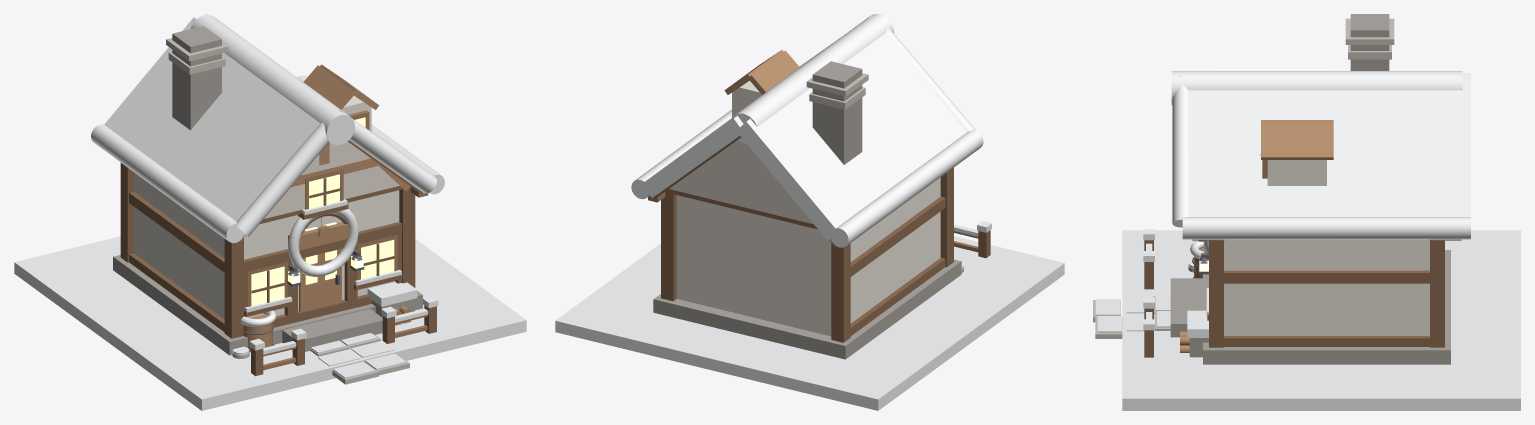
File: winter_house.glb
The picture shows the model from 3 angles, left to right: view 1: azimuth 30°, elevation 25°; view 2: azimuth 150°, elevation 25°; view 3: azimuth 270°, elevation 25°; orthographic projection. The views are drawn at different scales.
Visible parts, largest first — view 1: ground_base (×2), snow_slope_R, house_body, stone_foundation (×2), ridge_snow_cap, eave_snow_R, chimney_shaft, front_gable, gable_snow_FR, stone_porch, gable_snow_FL, post_FR (+22 smaller); view 2: ground_base (×2), house_body, snow_slope_R, stone_foundation (×2), back_gable, eave_snow_R, ridge_snow_cap, chimney_shaft, snow_slope_L, post_BR, post_BL, mid_right (+9 smaller); view 3: ground_base (×2), snow_slope_L, house_body, eave_snow_L, ridge_snow_cap, stone_foundation (×2), mid_left, dormer_roof_L, sill_left, gable_snow_FL, chimney_shaft, post_FL (+8 smaller).
Boxes of the visible parts, bbox=[...] form: ground_base (×2): bbox=[14, 236, 526, 410]; snow_slope_R: bbox=[104, 17, 320, 221]; house_body: bbox=[134, 172, 399, 319]; stone_foundation (×2): bbox=[113, 255, 422, 355]; ridge_snow_cap: bbox=[191, 14, 355, 145]; eave_snow_R: bbox=[91, 124, 244, 243]; chimney_shaft: bbox=[172, 26, 221, 129]; front_gable: bbox=[264, 141, 399, 218]; gable_snow_FR: bbox=[235, 122, 328, 236]; stone_porch: bbox=[282, 309, 382, 351]; gable_snow_FL: bbox=[339, 110, 436, 193]; post_FR: bbox=[224, 239, 243, 338]; ground_base (×2): bbox=[555, 236, 1064, 410]; house_body: bbox=[676, 177, 940, 336]; snow_slope_R: bbox=[736, 33, 966, 240]; stone_foundation (×2): bbox=[653, 259, 961, 359]; back_gable: bbox=[669, 140, 813, 224]; eave_snow_R: bbox=[831, 129, 983, 247]; ridge_snow_cap: bbox=[730, 14, 894, 143]; chimney_shaft: bbox=[812, 61, 862, 164]; snow_slope_L: bbox=[642, 116, 743, 197]; post_BR: bbox=[831, 243, 850, 342]; post_BL: bbox=[661, 189, 676, 301]; mid_right: bbox=[850, 196, 945, 276]; ground_base (×2): bbox=[1122, 230, 1520, 410]; snow_slope_L: bbox=[1188, 79, 1470, 216]; house_body: bbox=[1224, 239, 1429, 335]; eave_snow_L: bbox=[1182, 217, 1470, 239]; ridge_snow_cap: bbox=[1171, 71, 1462, 105]; stone_foundation (×2): bbox=[1203, 250, 1450, 364]; mid_left: bbox=[1224, 270, 1429, 283]; dormer_roof_L: bbox=[1261, 121, 1333, 159]; sill_left: bbox=[1224, 336, 1429, 346]; gable_snow_FL: bbox=[1172, 75, 1188, 227]; chimney_shaft: bbox=[1350, 14, 1389, 70]; post_FL: bbox=[1209, 240, 1223, 347].
Bounding box in the file's own units: 7.4 × 5.7 × 7.94.
